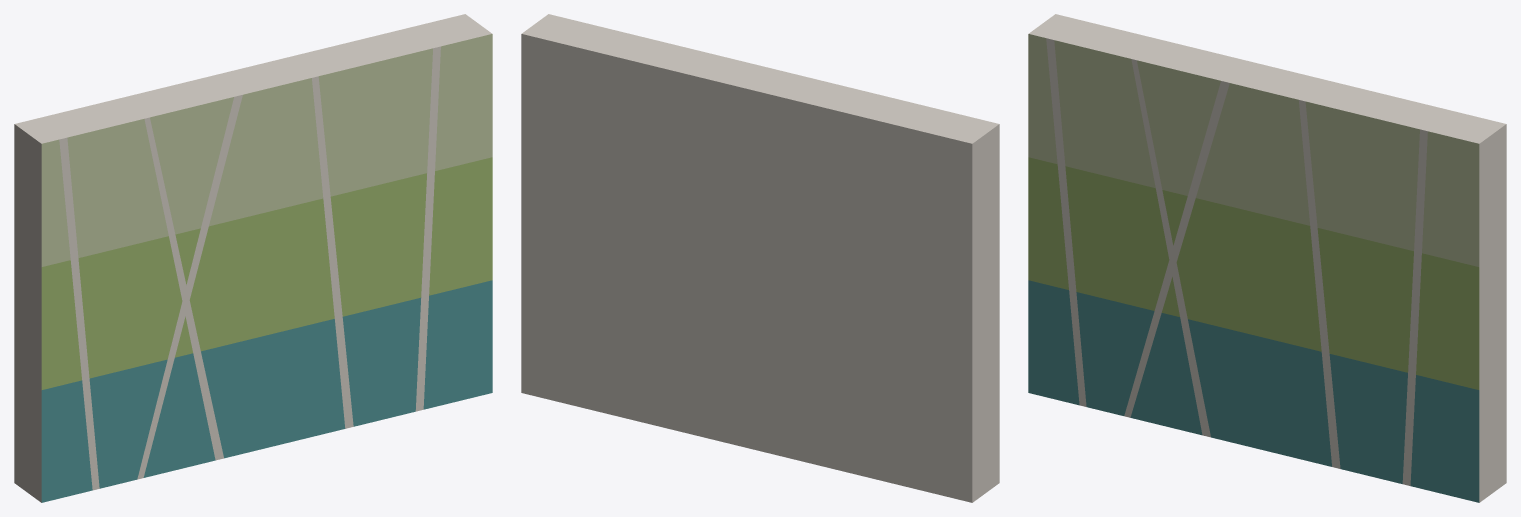
Rendered from SM_Prop_Art_05.fbx.
The picture shows the model from 3 angles, left to right: view 1: azimuth 30°, elevation 25°; view 2: azimuth 150°, elevation 25°; view 3: azimuth 330°, elevation 25°; orthographic projection.
Parts seen in each view (by area): view 1: SM_Prop_Art_05; view 2: SM_Prop_Art_05; view 3: SM_Prop_Art_05.
Part boxes in pixels (left/top/right/bottom): SM_Prop_Art_05: left=14, top=14, right=492, bottom=502; SM_Prop_Art_05: left=521, top=14, right=999, bottom=502; SM_Prop_Art_05: left=1028, top=14, right=1506, bottom=502.
Bounding box in the file's own units: 61.95 × 47.15 × 6.45.
